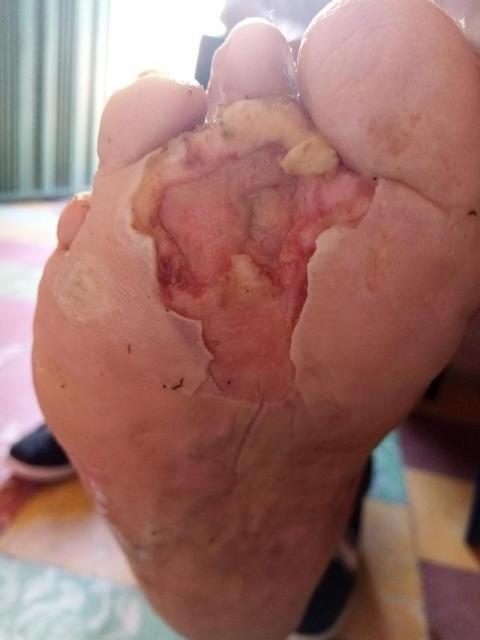wound: (130, 97, 375, 405)
